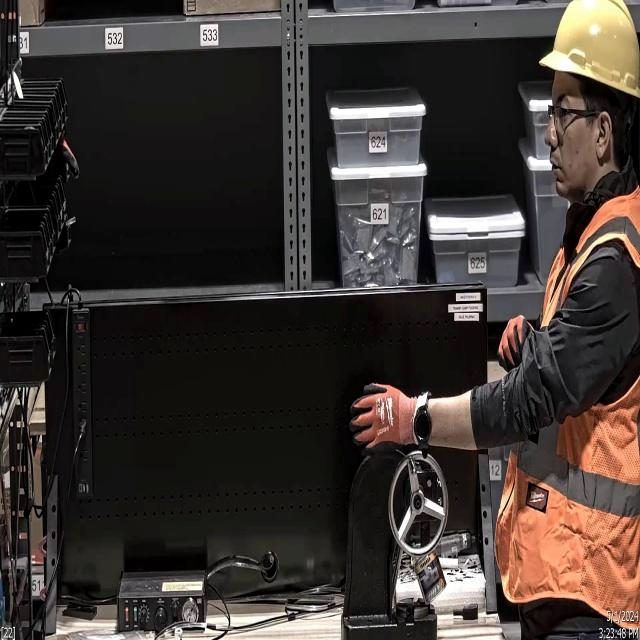construction-gloves: (348, 376, 422, 454)
